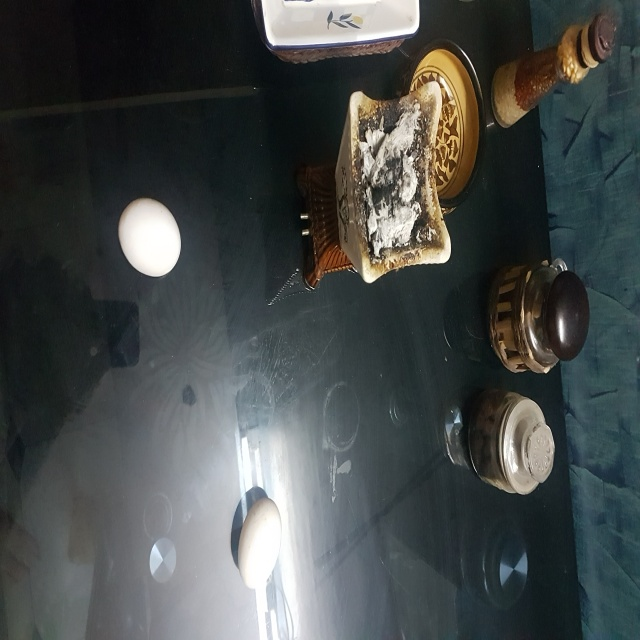eggs: (118, 195, 181, 277), (238, 496, 280, 589)
